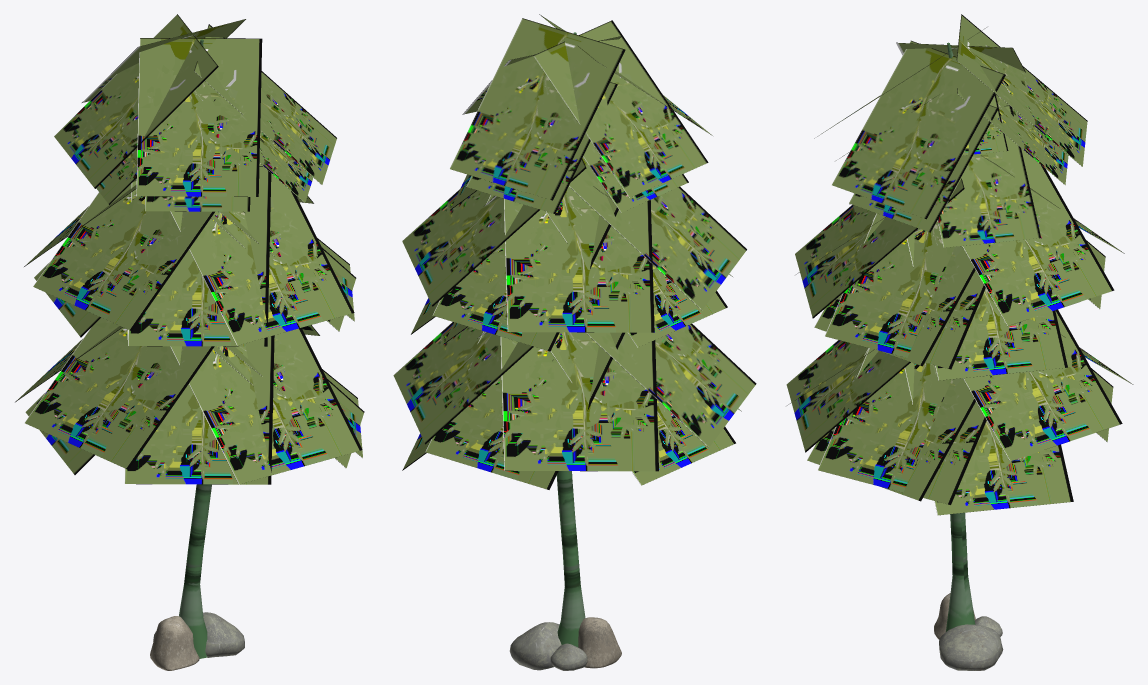
Rendered from MA_EnvArt_BambooTree_Full.fbx.
3 views of the same model, side by side, from view 1: azimuth 30°, elevation 25°; view 2: azimuth 150°, elevation 25°; view 3: azimuth 270°, elevation 25° (orthographic). The views are drawn at different scales.
Visible parts, largest first — view 1: BambooLeaf8, BambooLeaf26, BambooLeaf25, BambooLeaf16, BambooLeaf17, BambooLeaf9, BambooLeaf28, BambooLeaf13, BambooLeaf10, BambooTree, Rock_Big2, BambooLeaf2 (+12 smaller); view 2: BambooLeaf24, BambooLeaf18, BambooLeaf6, BambooLeaf9, BambooLeaf17, BambooLeaf25, BambooLeaf22, BambooLeaf20, BambooLeaf31, BambooLeaf11, BambooTree, BambooLeaf29 (+6 smaller); view 3: BambooLeaf10, BambooLeaf23, BambooLeaf19, BambooLeaf20, BambooLeaf22, BambooLeaf3, BambooLeaf30, BambooLeaf26, BambooLeaf16, BambooLeaf12, BambooLeaf6, BambooLeaf27 (+7 smaller).
Boxes of the visible parts, <box> form: BambooLeaf8: <box>136,38,262,196</box>; BambooLeaf26: <box>170,328,362,484</box>; BambooLeaf25: <box>24,317,214,469</box>; BambooLeaf16: <box>170,163,354,345</box>; BambooLeaf17: <box>33,183,214,330</box>; BambooLeaf9: <box>54,14,218,188</box>; BambooLeaf28: <box>124,330,274,484</box>; BambooLeaf13: <box>128,166,271,346</box>; BambooLeaf10: <box>194,24,336,184</box>; BambooTree: <box>179,39,211,658</box>; Rock_Big2: <box>150,616,199,670</box>; BambooLeaf2: <box>259,130,313,202</box>; BambooLeaf24: <box>500,332,658,471</box>; BambooLeaf18: <box>504,157,654,332</box>; BambooLeaf6: <box>449,18,625,200</box>; BambooLeaf9: <box>533,20,708,197</box>; BambooLeaf17: <box>569,158,746,309</box>; BambooLeaf25: <box>586,323,756,447</box>; BambooLeaf22: <box>393,322,533,444</box>; BambooLeaf20: <box>402,159,586,306</box>; BambooLeaf31: <box>425,331,624,489</box>; BambooLeaf11: <box>432,188,618,351</box>; BambooTree: <box>556,32,585,647</box>; BambooLeaf29: <box>550,343,735,485</box>; BambooLeaf10: <box>831,40,1005,219</box>; BambooLeaf23: <box>818,348,986,504</box>; BambooLeaf19: <box>825,213,985,369</box>; BambooLeaf20: <box>962,148,1114,325</box>; BambooLeaf22: <box>963,309,1122,461</box>; BambooLeaf3: <box>937,105,1040,247</box>; BambooLeaf30: <box>904,362,1073,515</box>; BambooLeaf26: <box>786,340,910,452</box>; BambooLeaf16: <box>795,178,964,318</box>; BambooLeaf12: <box>906,232,1067,380</box>; BambooLeaf6: <box>956,14,1087,166</box>; BambooLeaf27: <box>807,348,975,501</box>.
Bounding box in the file's own units: 755 × 1456 × 747.
